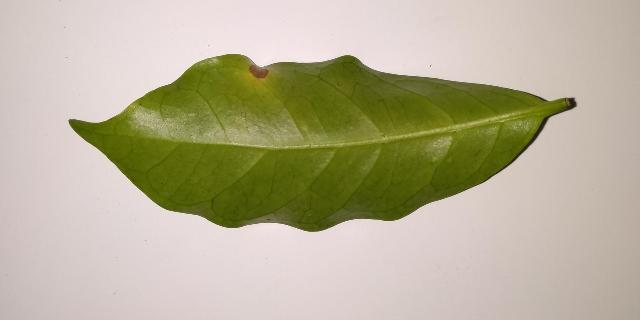phoma: (248, 64, 270, 80)
